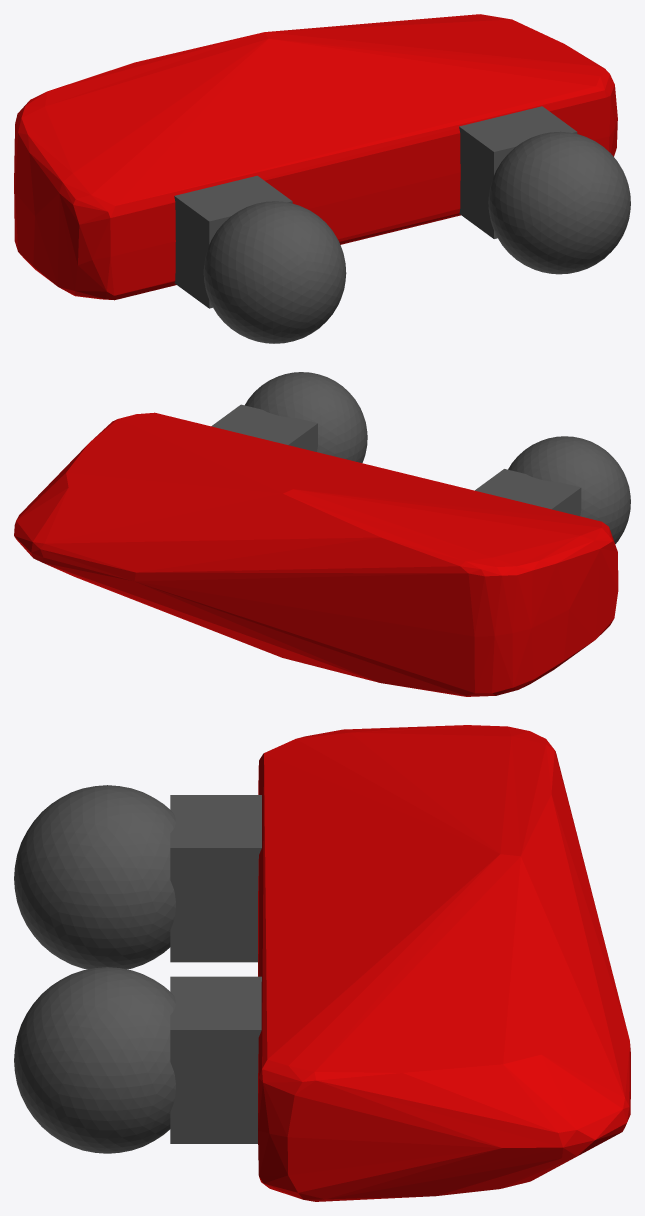
File: gripper-4.obj
The picture shows the model from 3 angles, top to bottom: view 1: azimuth 30°, elevation 25°; view 2: azimuth 150°, elevation 25°; view 3: azimuth 270°, elevation 25°; orthographic projection. The views are drawn at different scales.
Bounding box in the file's own units: 0.2044 × 0.0633 × 0.1519.
